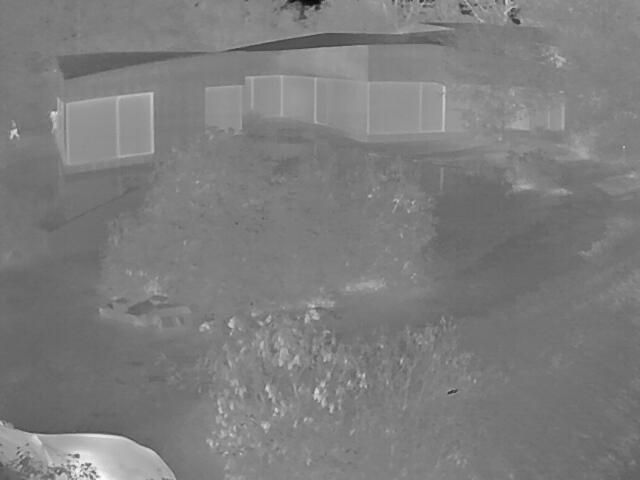person: (5, 119, 20, 142)
